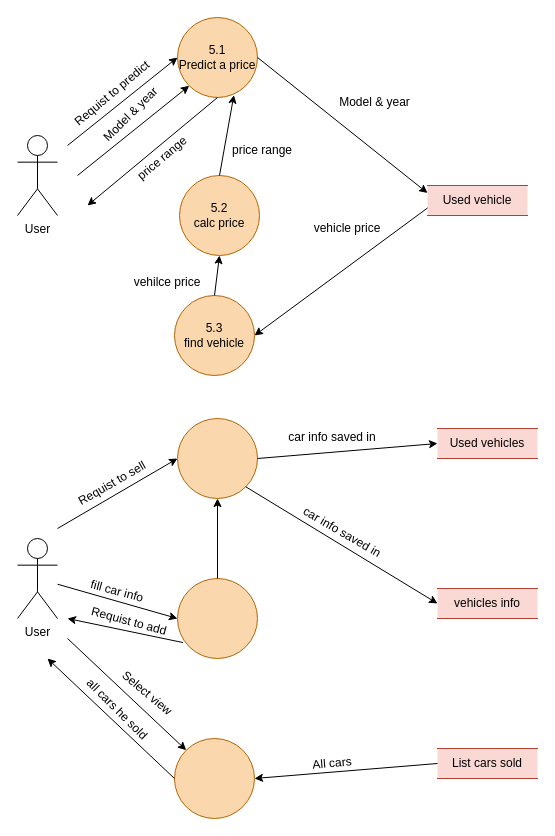
Some shapes in this 555 by 836 pixel diagram are drawn without their labels. Here are the shapes that lost their labels. From the top down, the centre of each, then its label:
pixel 217 458: 4.1 sell a vehicle
pixel 217 618: 4.2 adding part
pixel 214 778: 4.3 viewing
